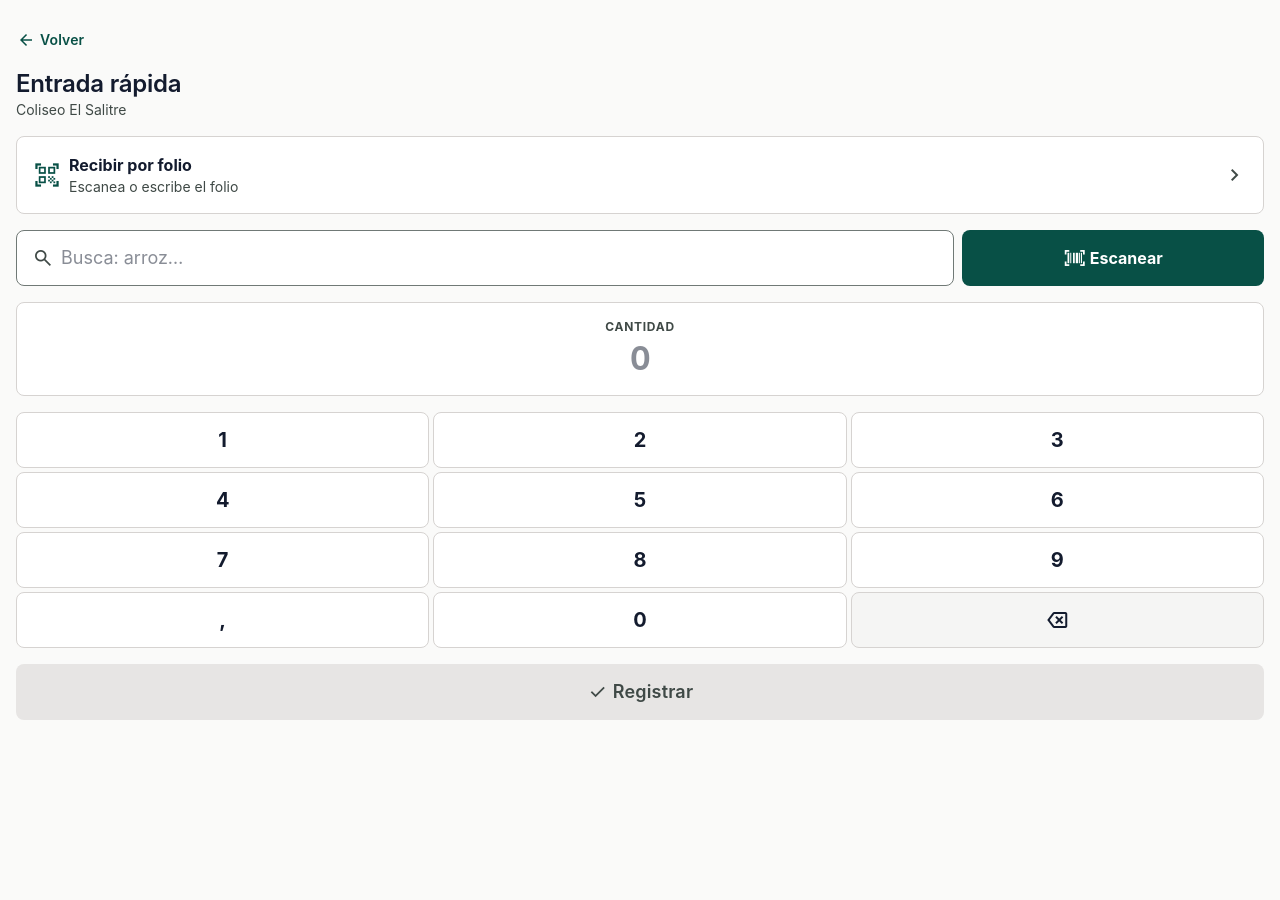
Test: C4 Entrada rápida › en una categoría por unidades no ofrece la coma y una cantidad con decimales no se registra
This screenshot has width=1280, height=900.
In the search field named "Categoría": x=485, y=258 [16,230,954,286], type "panal"
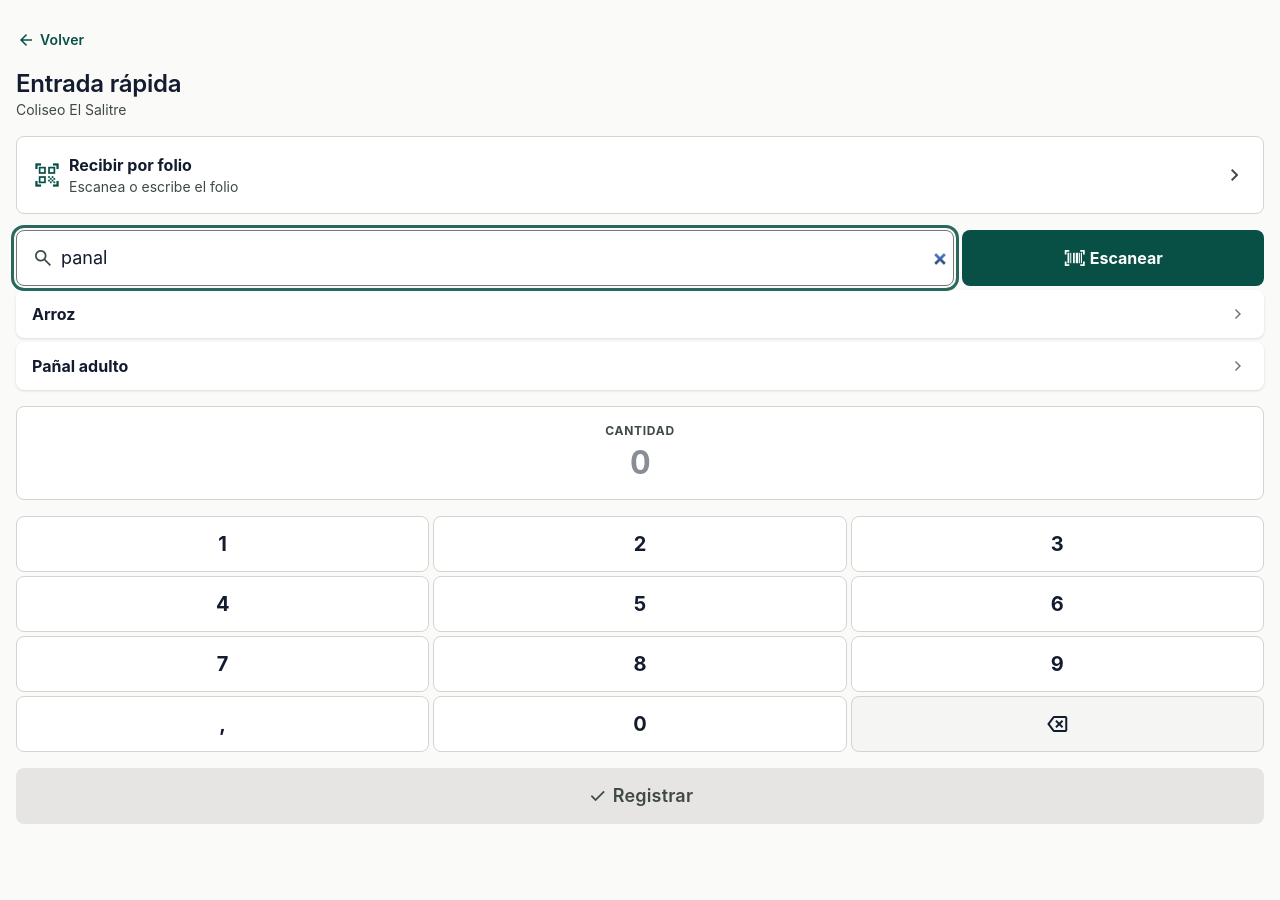
Click the button "Pañal adulto": x=80, y=366 [16,342,1264,390]
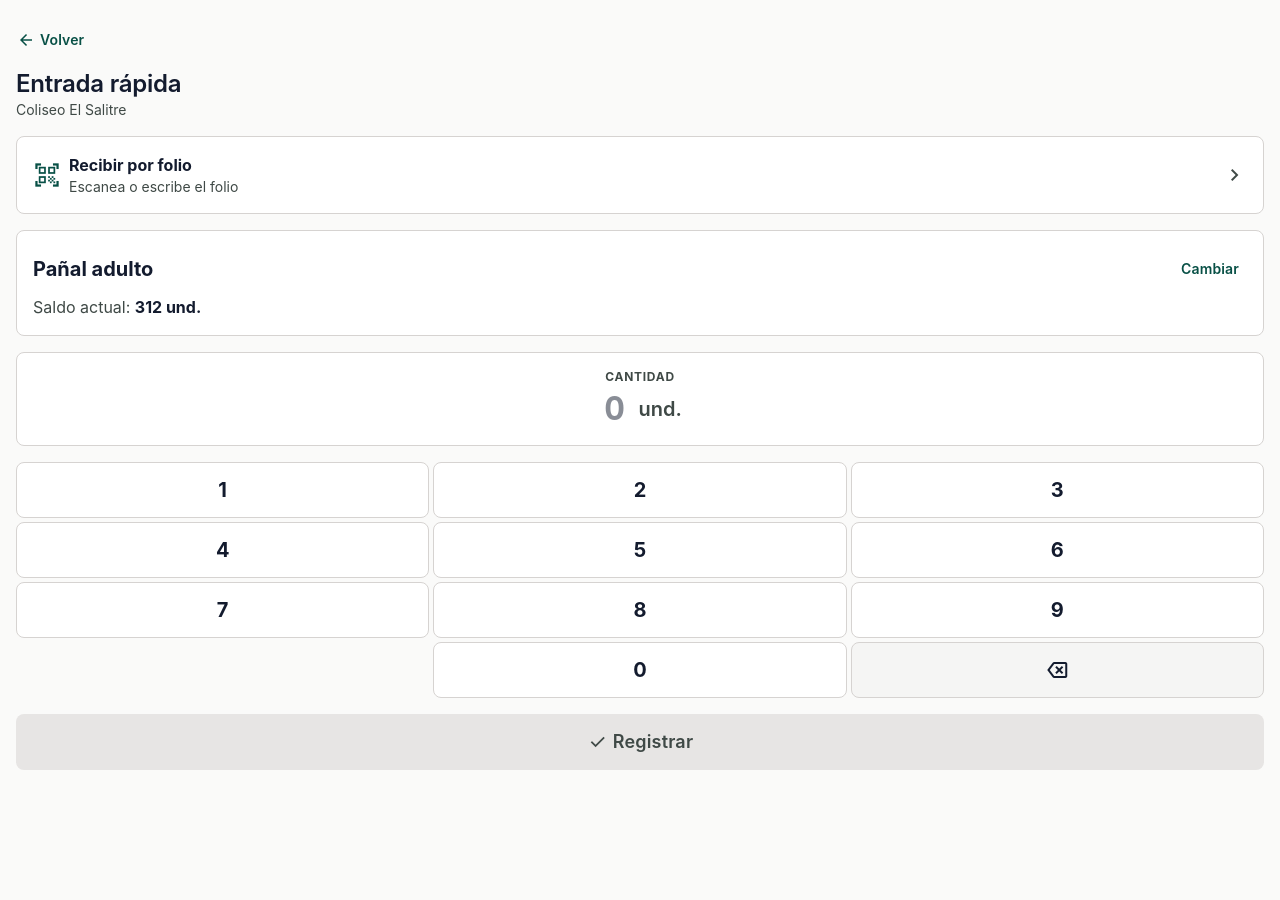
Check: the button "," is gone
In the field named "Cantidad": x=614, y=409 [598,389,630,429], type "2,5"
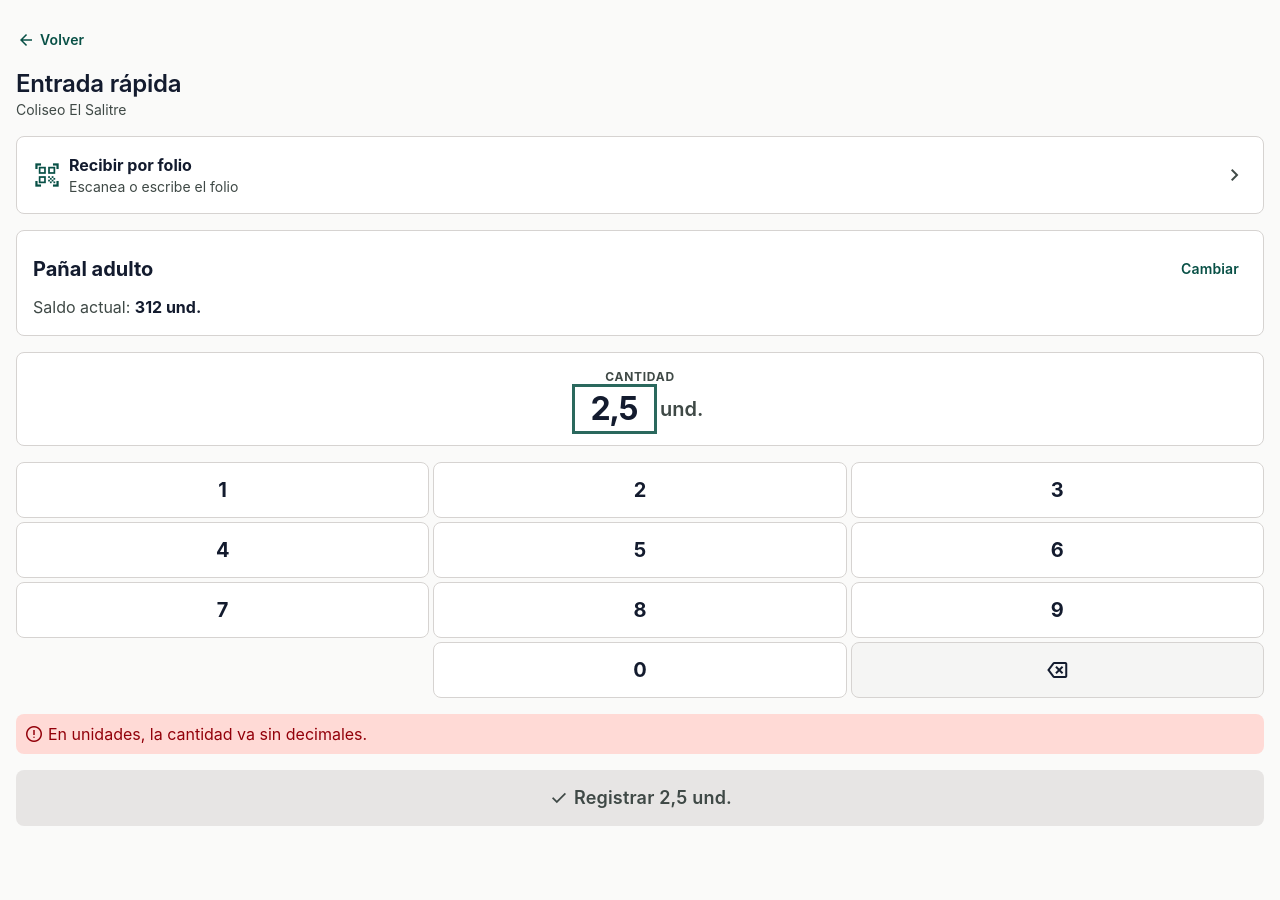
Check: the button "Registrar 2,5 und." is disabled, box [16,770,1264,826]
Check: the message reads "En unidades, la cantidad va sin decimales.", box [48,724,367,744]
